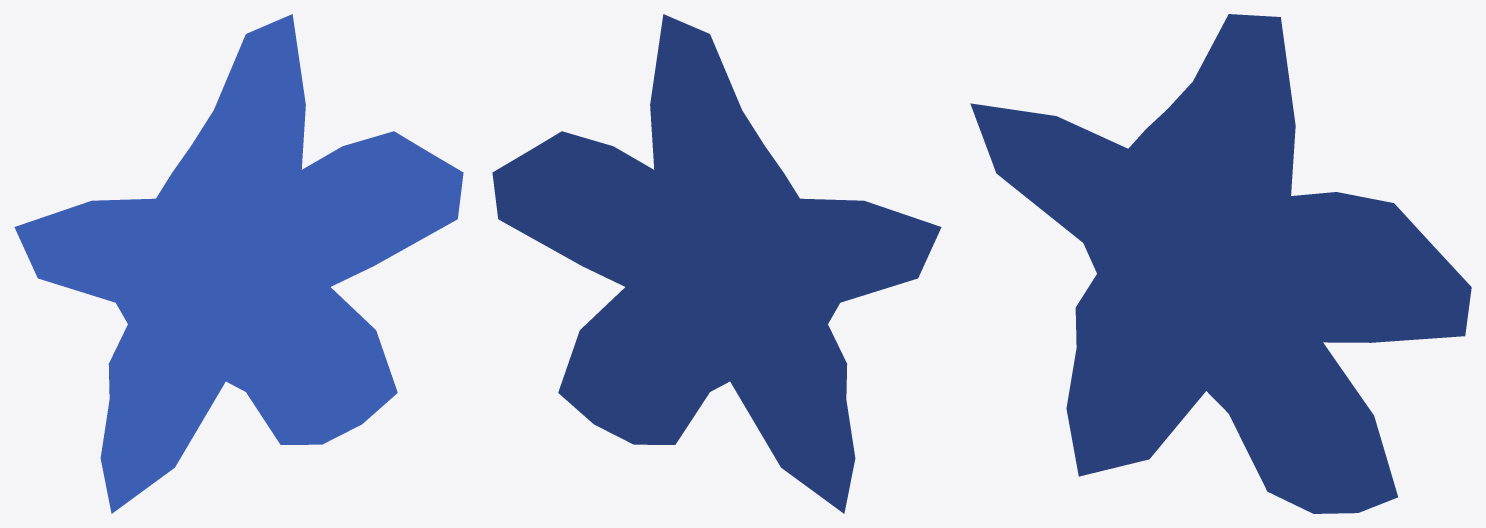
The model's file is splat_blue.glb.
3 views of the same model, side by side, from view 1: azimuth 30°, elevation 25°; view 2: azimuth 150°, elevation 25°; view 3: azimuth 330°, elevation 25° (orthographic). The views are drawn at different scales.
Parts seen in each view (by area): view 1: SM_PaintSplash; view 2: SM_PaintSplash; view 3: SM_PaintSplash.
Boxes of the visible parts, x1,y1,x2,y2 form: SM_PaintSplash: [14, 14, 463, 513]; SM_PaintSplash: [492, 14, 941, 513]; SM_PaintSplash: [970, 14, 1471, 513].
Bounding box in the file's own units: 1.71 × 1.66 × 0.0005.
